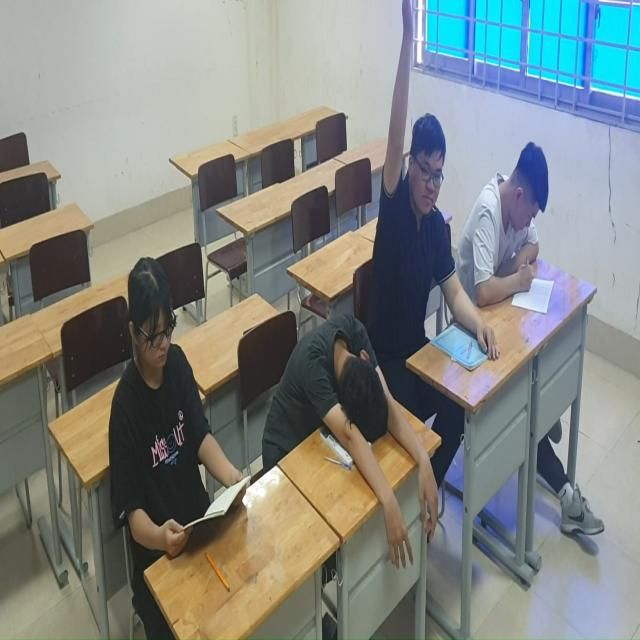raise_hand: (364, 1, 459, 332)
read: (105, 249, 253, 583), (458, 116, 559, 334)
sleep: (262, 308, 442, 558)
